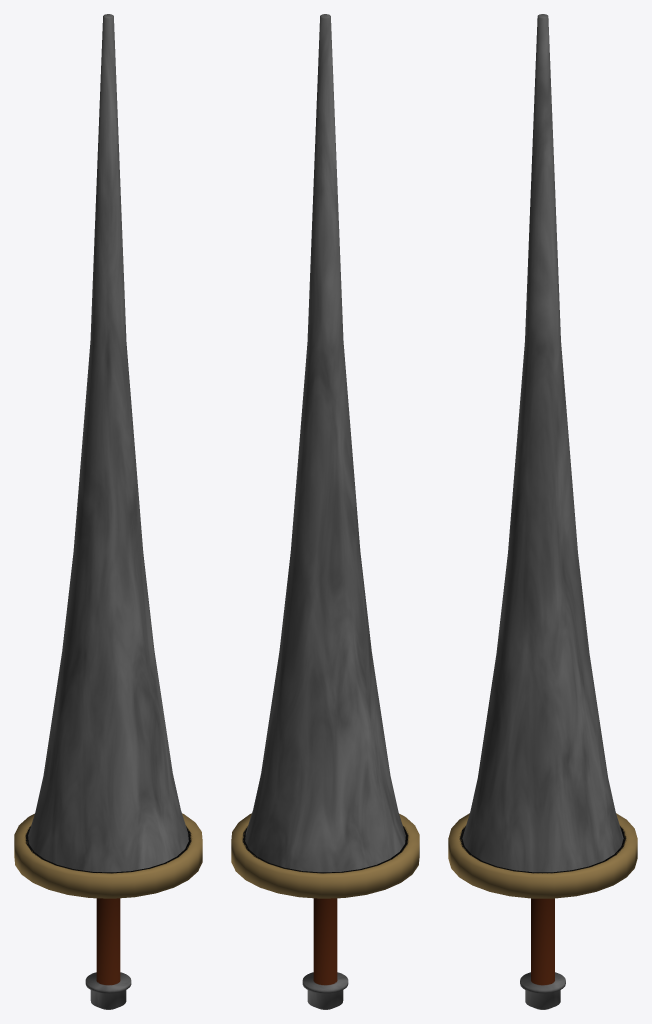
The model's file is lanca.fbx.
3 renders of one model, left to right at view 1: azimuth 30°, elevation 25°; view 2: azimuth 150°, elevation 25°; view 3: azimuth 270°, elevation 25°, orthographic.
Visible parts, largest first — view 1: Circle; view 2: Circle; view 3: Circle.
Boxes of the visible parts, <box> form: Circle: <box>14,14,202,1009</box>; Circle: <box>231,14,419,1009</box>; Circle: <box>448,14,637,1009</box>.
Bounding box in the file's own units: 30.9 × 180 × 31.13.
1 material, 1 textured.
